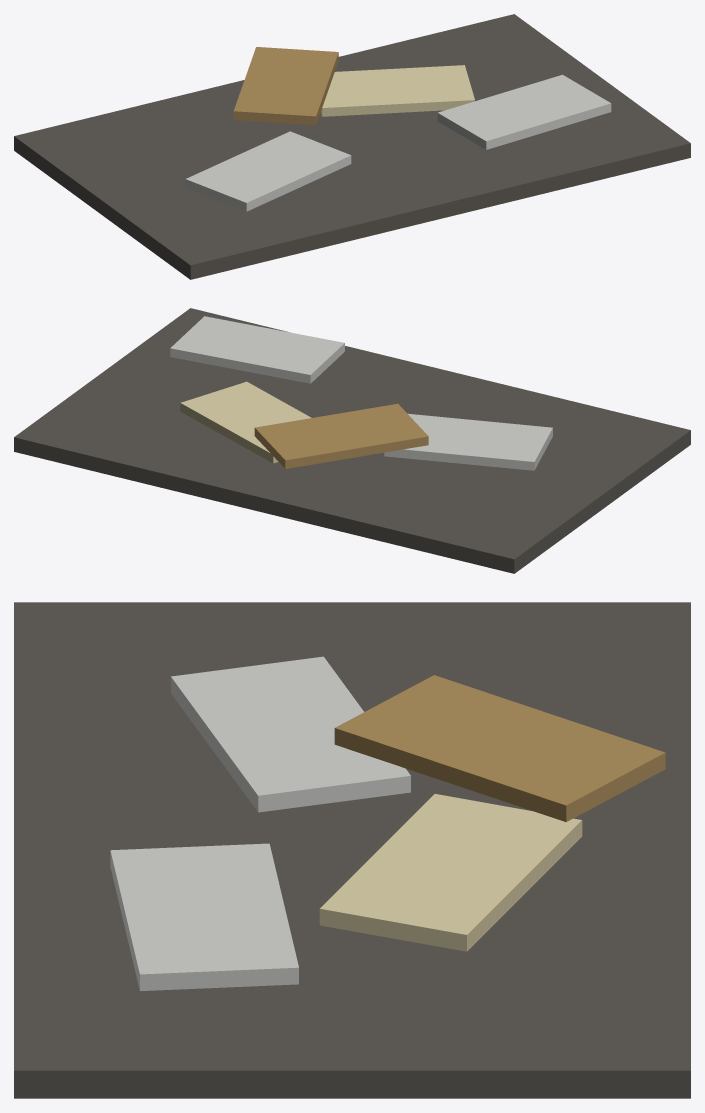
The model's file is prop_post.glb.
3 views of the same model, one above another, from view 1: azimuth 30°, elevation 25°; view 2: azimuth 150°, elevation 25°; view 3: azimuth 270°, elevation 25° (orthographic). The views are drawn at different scales.
Parts seen in each view (by area): view 1: body; view 2: body; view 3: body.
Part boxes in pixels (x1=…): body: x1=14, y1=14, x2=690, y2=279; body: x1=14, y1=308, x2=690, y2=573; body: x1=14, y1=602, x2=690, y2=1098.
Size of the model in its own units: 0.9 by 0.088 by 0.55.
